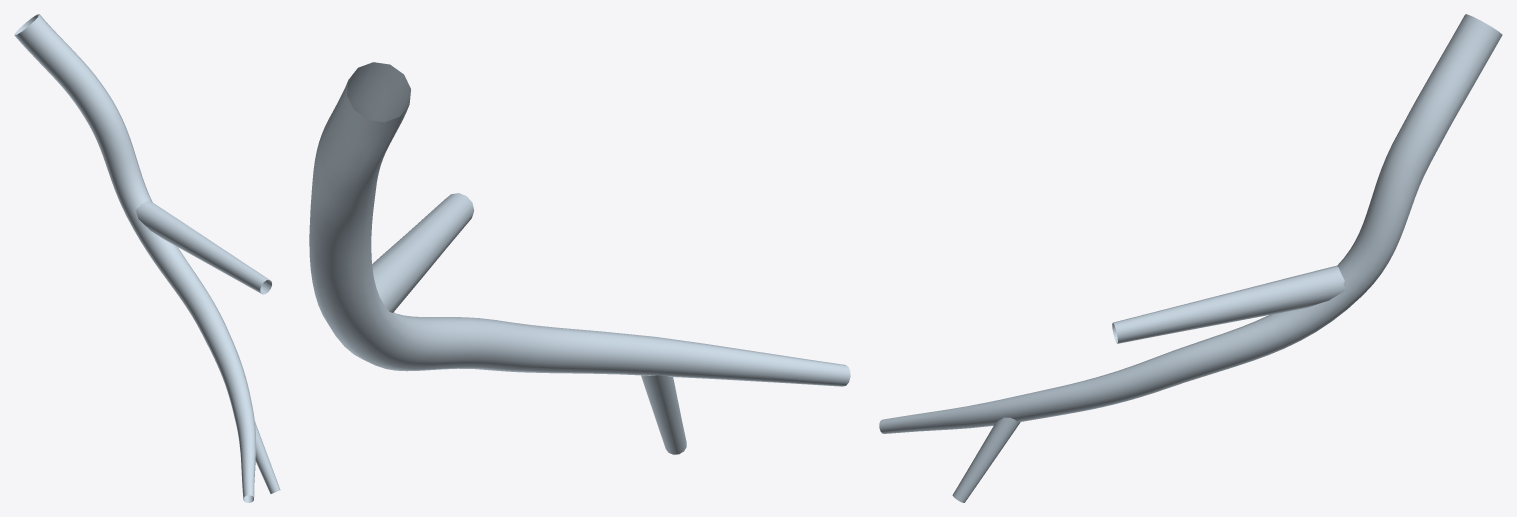
File: visceras-inferior-lingular-segmental-bronchus-of-left-lung-bv.glb
3 renders of one model, left to right at view 1: azimuth 30°, elevation 25°; view 2: azimuth 150°, elevation 25°; view 3: azimuth 270°, elevation 25°, orthographic. The views are drawn at different scales.
Parts seen in each view (by area): view 1: Inferior lingular segmental bronchus of left lung (BV); view 2: Inferior lingular segmental bronchus of left lung (BV); view 3: Inferior lingular segmental bronchus of left lung (BV).
Boxes of the visible parts, x1,y1,x2,y2 form: Inferior lingular segmental bronchus of left lung (BV): (14, 14, 280, 502); Inferior lingular segmental bronchus of left lung (BV): (309, 62, 850, 454); Inferior lingular segmental bronchus of left lung (BV): (879, 14, 1502, 502).
Bounding box in the file's own units: 0.025 × 0.0696 × 0.0857.
